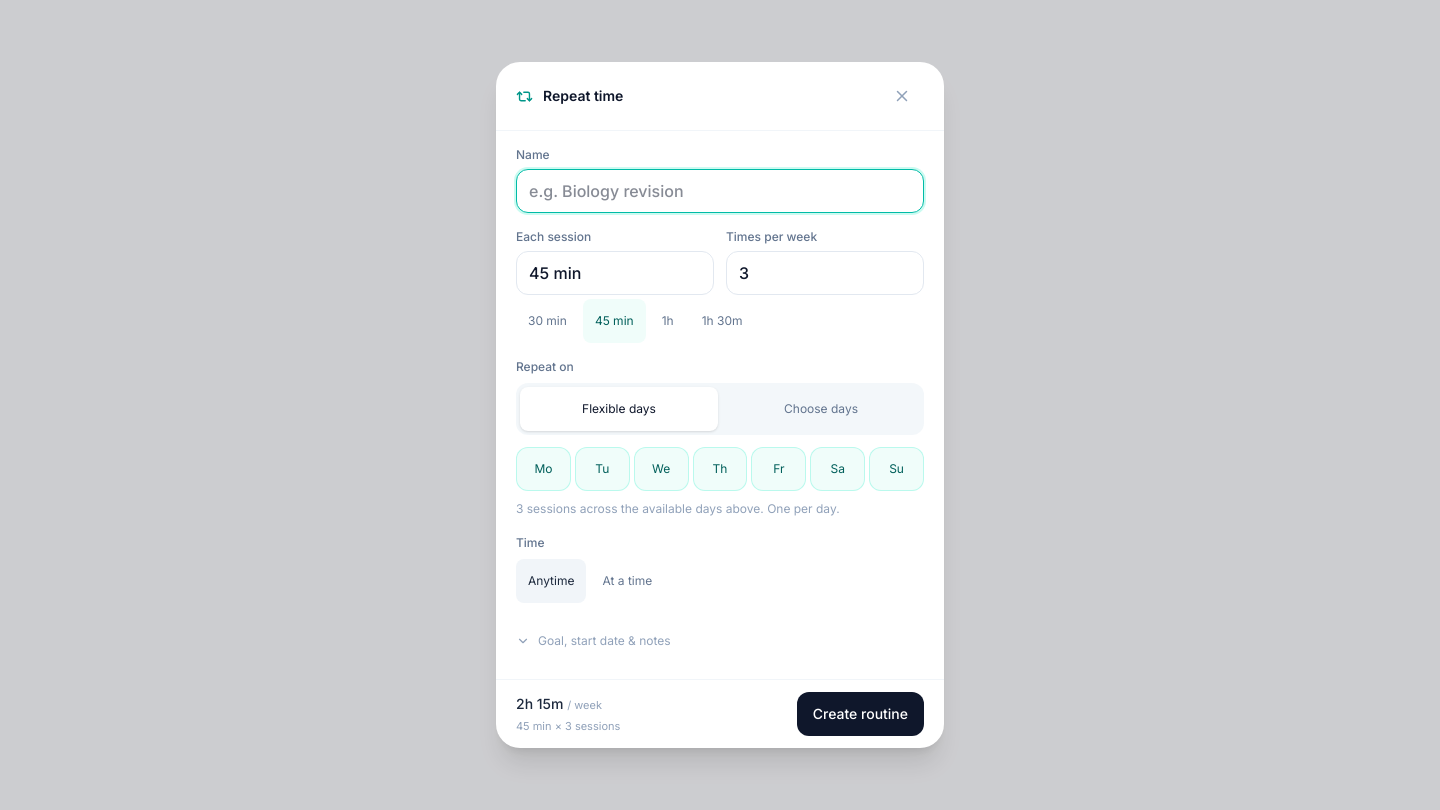
Test: time-based repeat editor › keeps failed saves and the draft visible for retry
The image size is (1440, 810).
Type "Biology revision" into the field labelled "Name" at (720, 191), box [516,169,924,213]
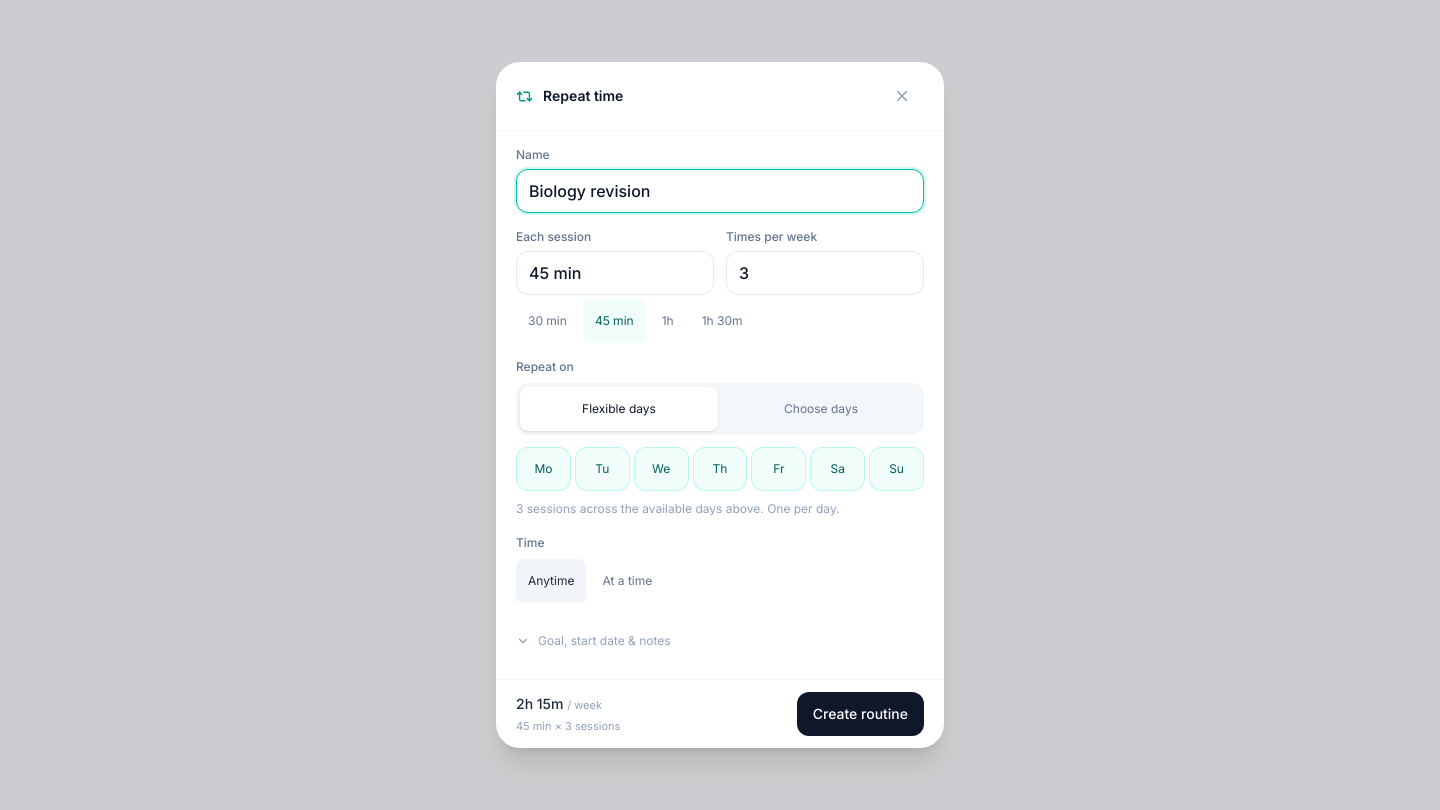
Click the button "Create routine" at (860, 714), box [797,692,924,736]
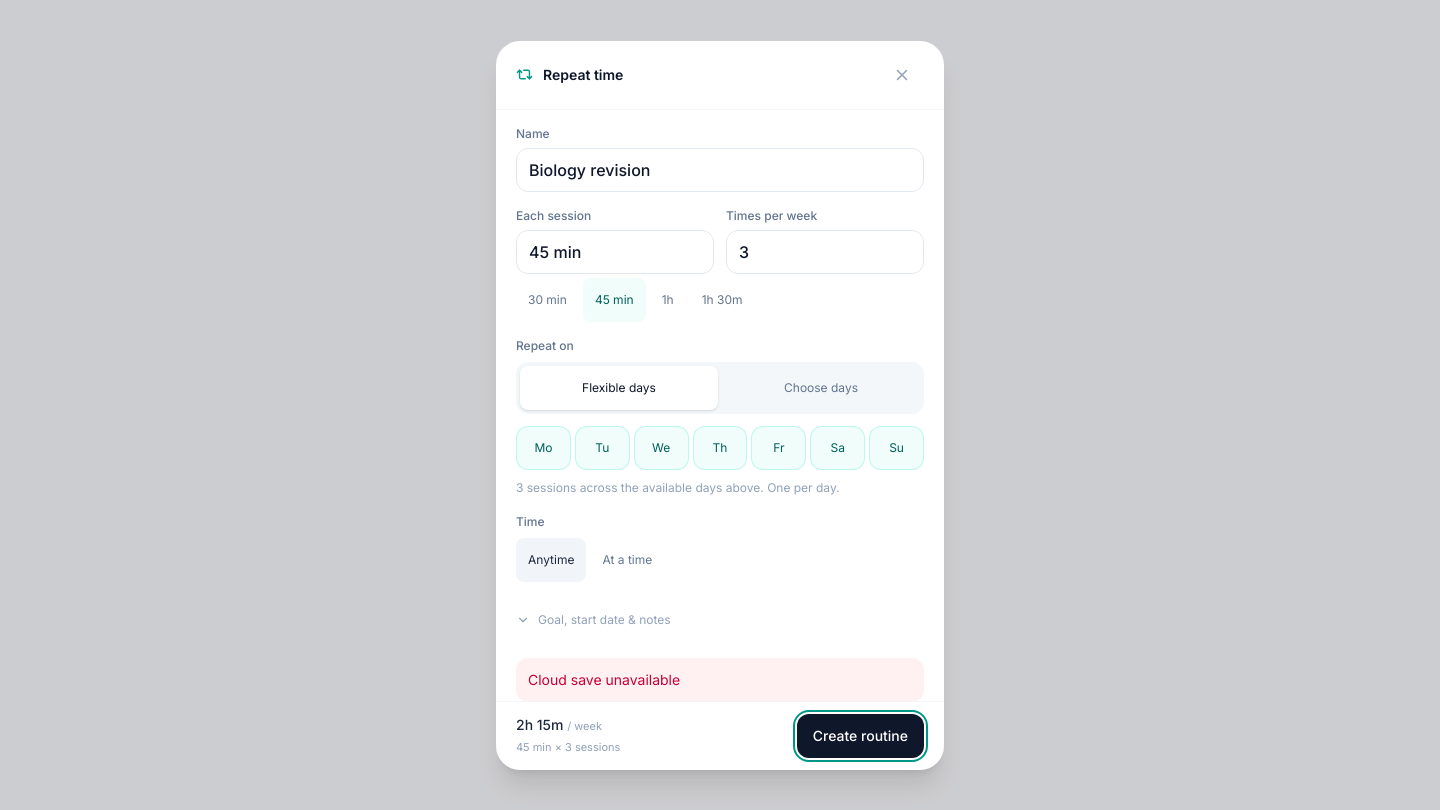
Expected: the message "Cloud save unavailable" is shown, [516,658,924,700]
